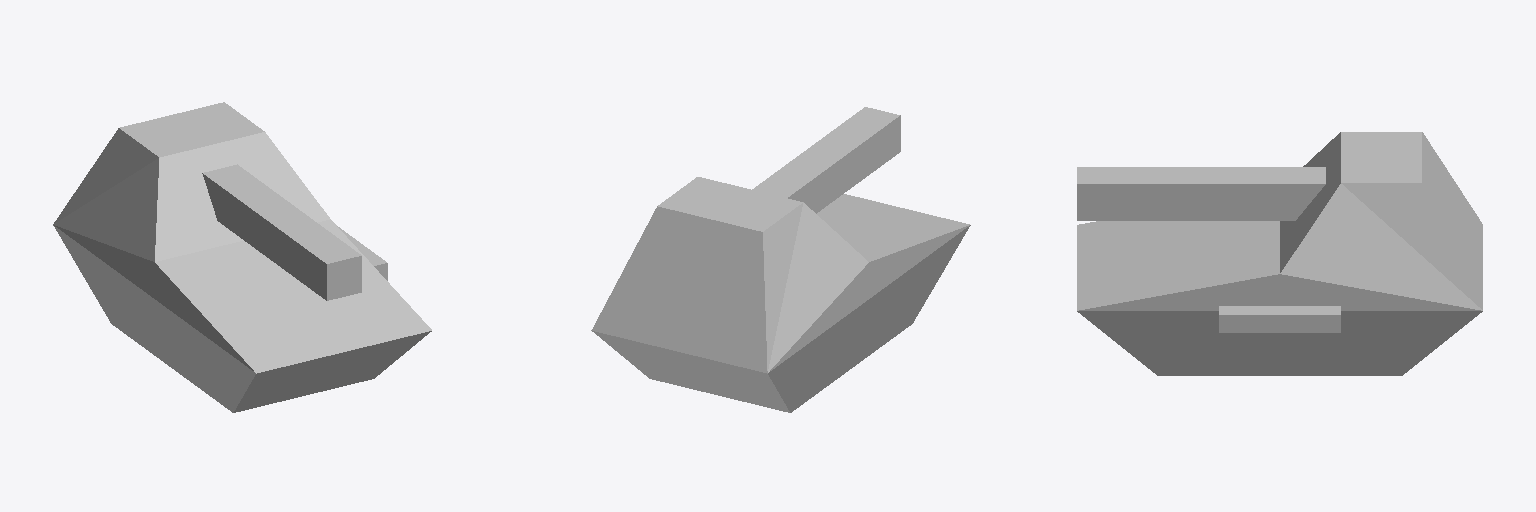
The model's file is heavytank4+y+zinv.obj.
3 views of the same model, side by side, from view 1: azimuth 30°, elevation 25°; view 2: azimuth 150°, elevation 25°; view 3: azimuth 270°, elevation 25° (orthographic).
Parts seen in each view (by area): view 1: Cube; view 2: Cube; view 3: Cube.
Boxes of the visible parts, x1,y1,x2,y2 form: Cube: [53, 102, 431, 412]; Cube: [591, 107, 970, 412]; Cube: [1077, 132, 1482, 375].
Size of the model in its own units: 1.15 by 1 by 2.